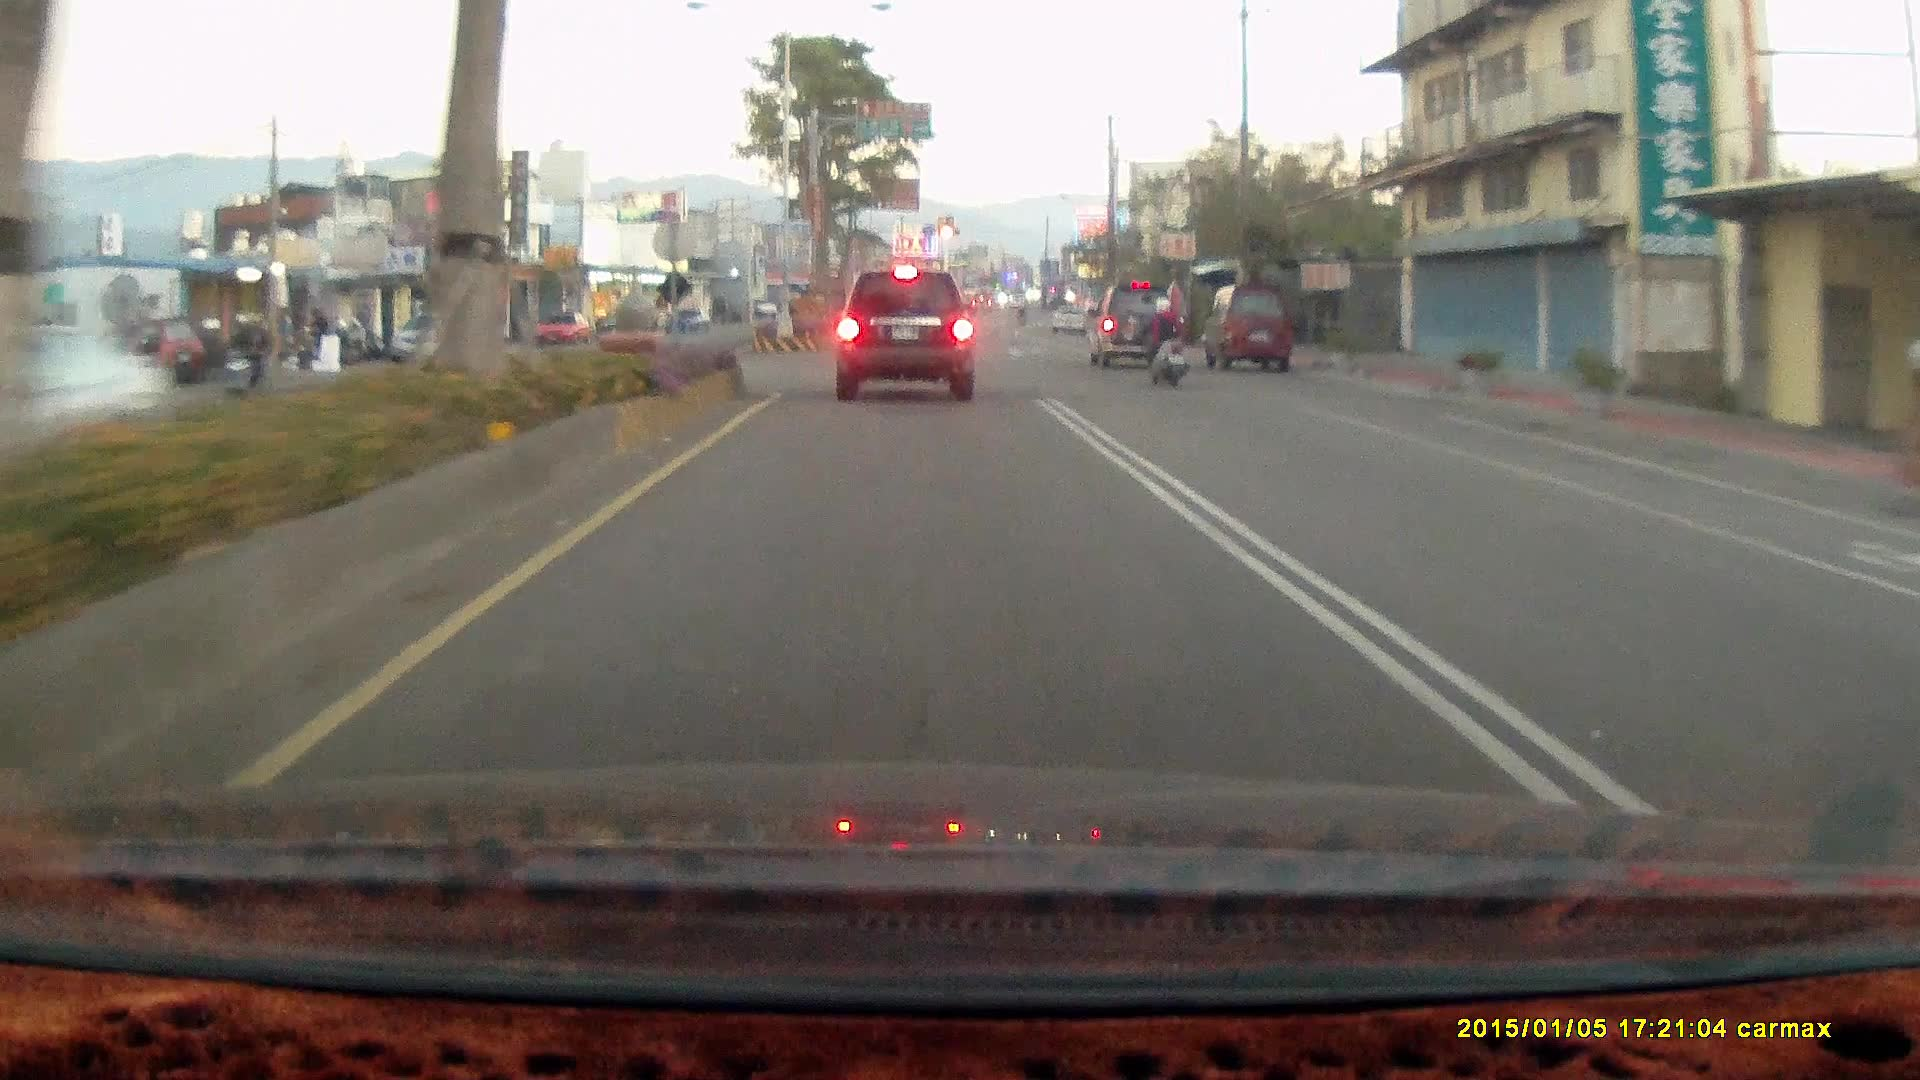rider: (1129, 292, 1199, 392), (210, 312, 268, 405), (1135, 292, 1186, 385)
vehicle: (831, 261, 986, 399), (834, 267, 972, 397), (1201, 282, 1293, 380), (1091, 281, 1189, 370), (1086, 280, 1177, 366), (1201, 282, 1289, 368), (384, 309, 475, 362)
